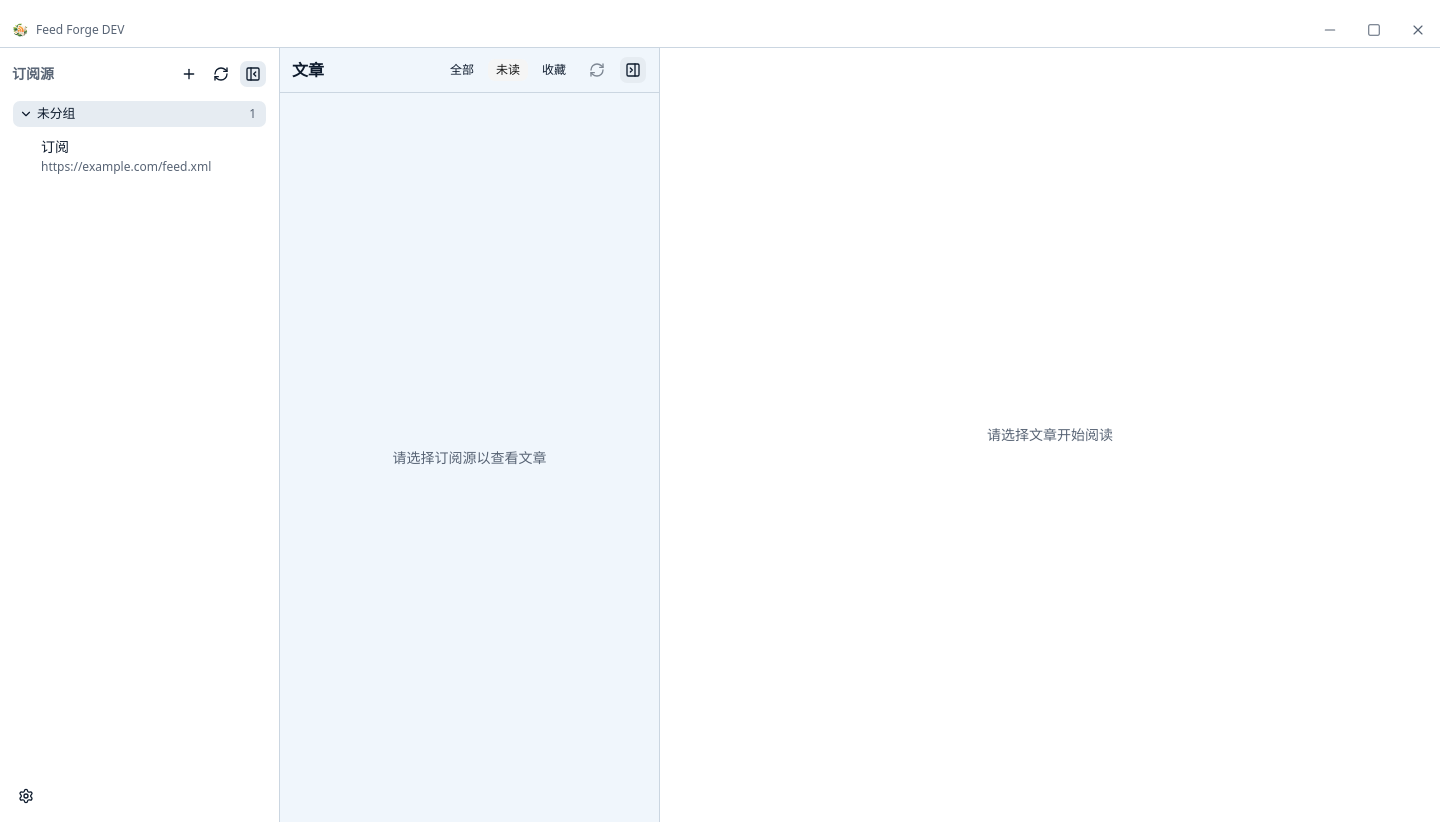
Test: reopening an article reuses its in-flight auto-read
Click the list item named "订阅https" at (148, 156), box [28, 128, 267, 184]
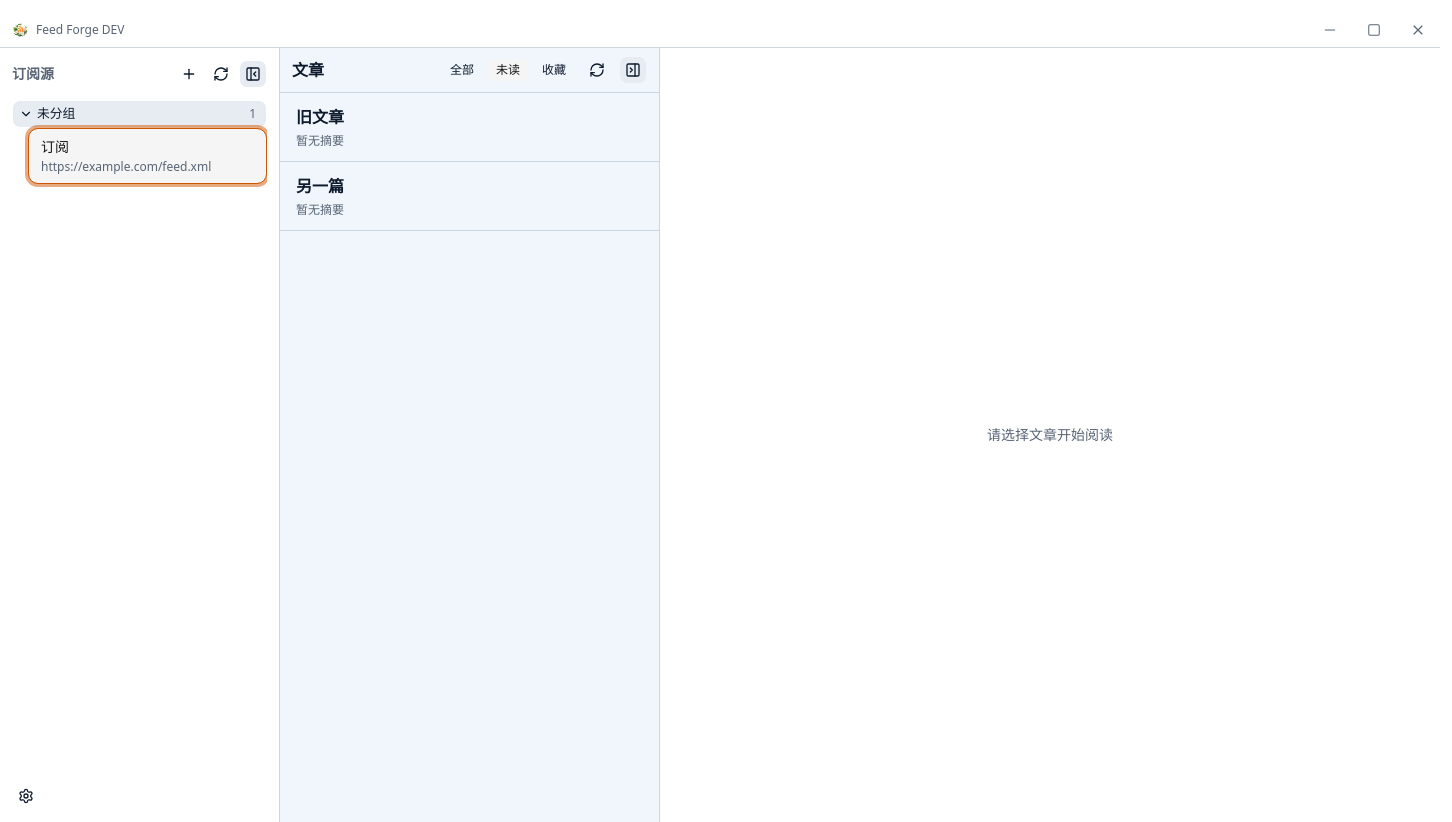
Click the button "旧文章 暂无摘要" at (320, 117), box [280, 93, 659, 161]
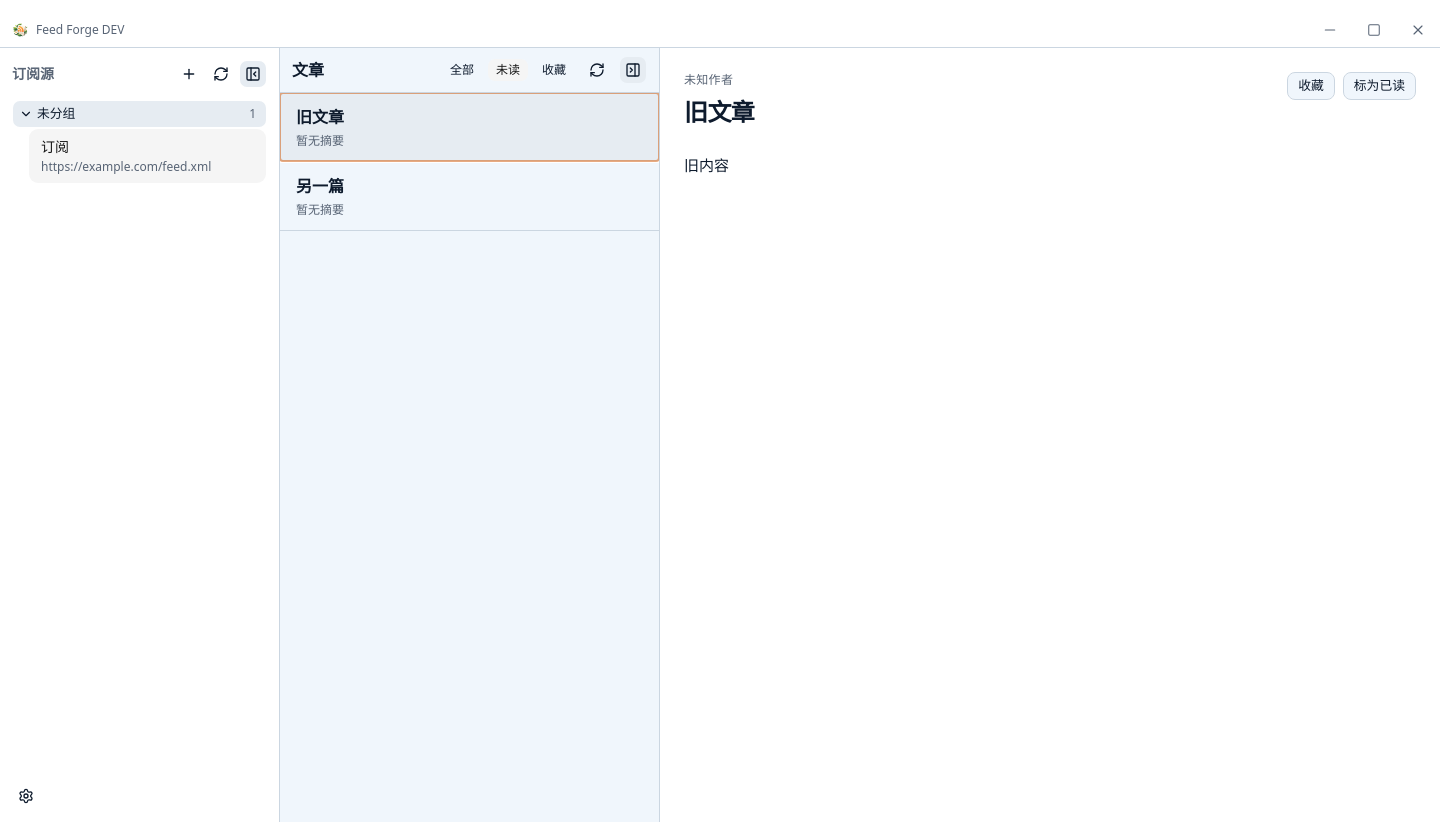
Click the button "另一篇 暂无摘要" at (320, 186), box [280, 162, 659, 230]
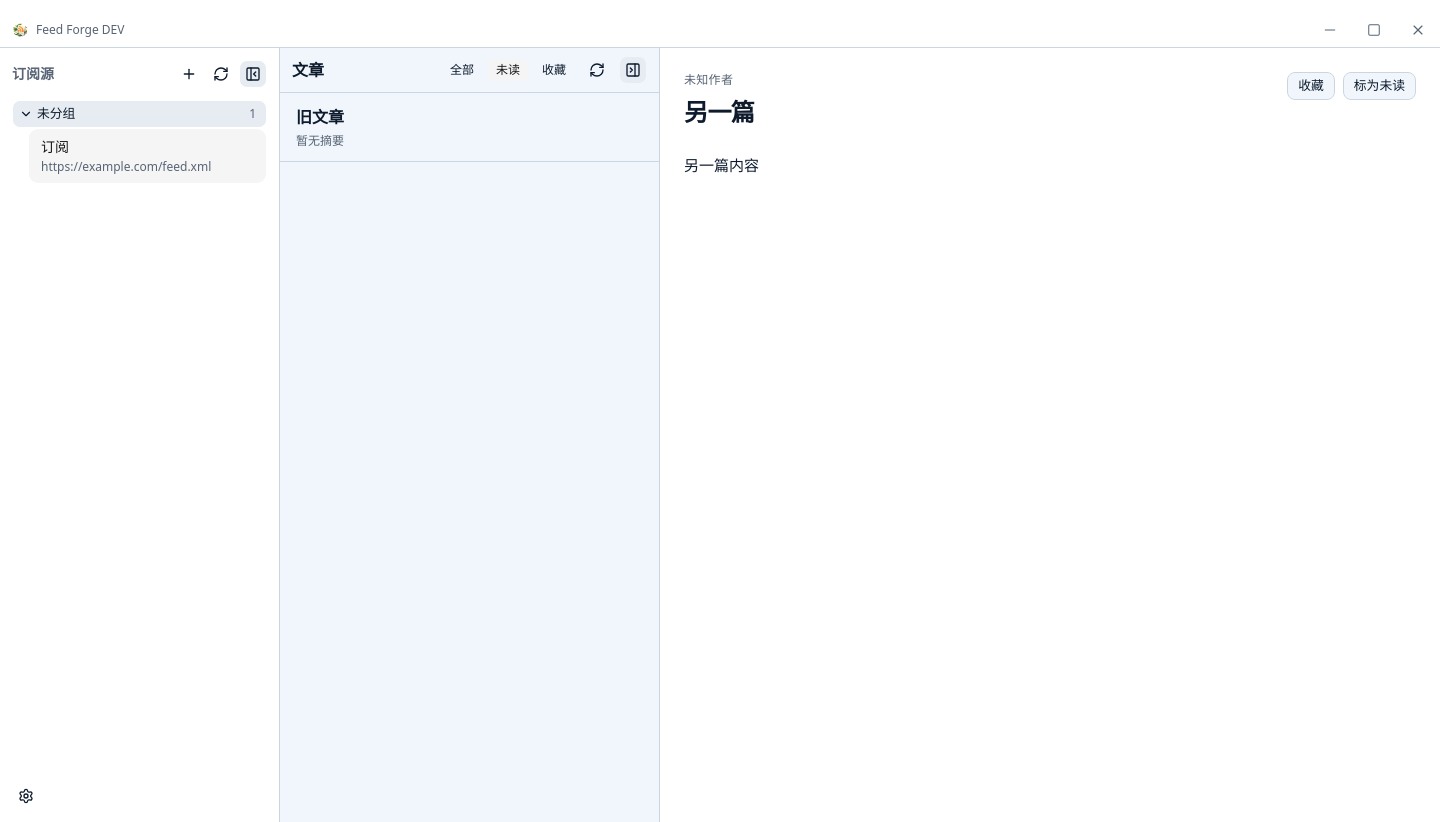
Click the button "旧文章 暂无摘要" at (320, 117), box [280, 93, 659, 161]
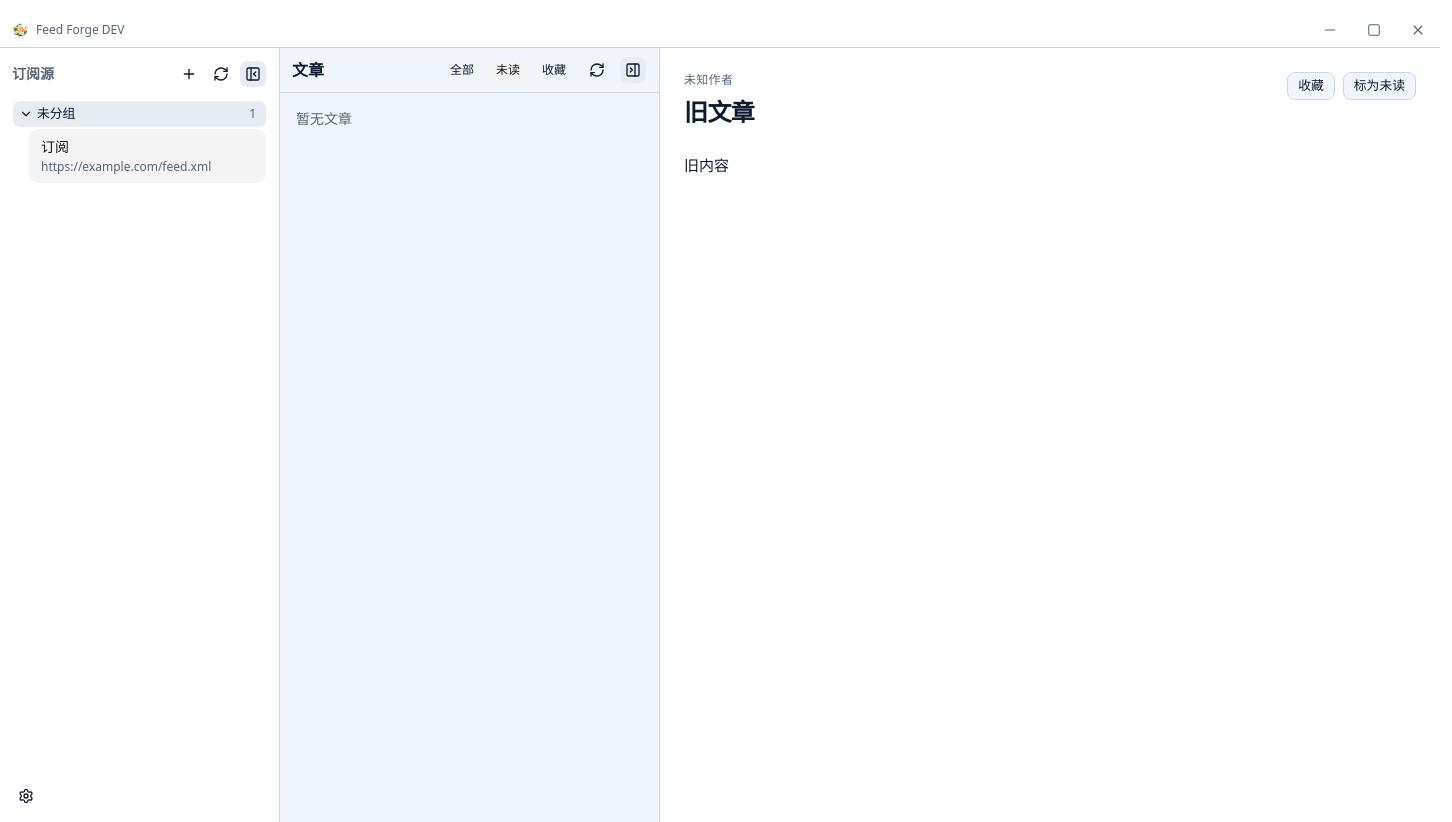
Result: the button "标为未读" is shown at [1343, 72, 1416, 100]
Result: the text "暂无文章" is shown at [296, 109, 352, 128]
